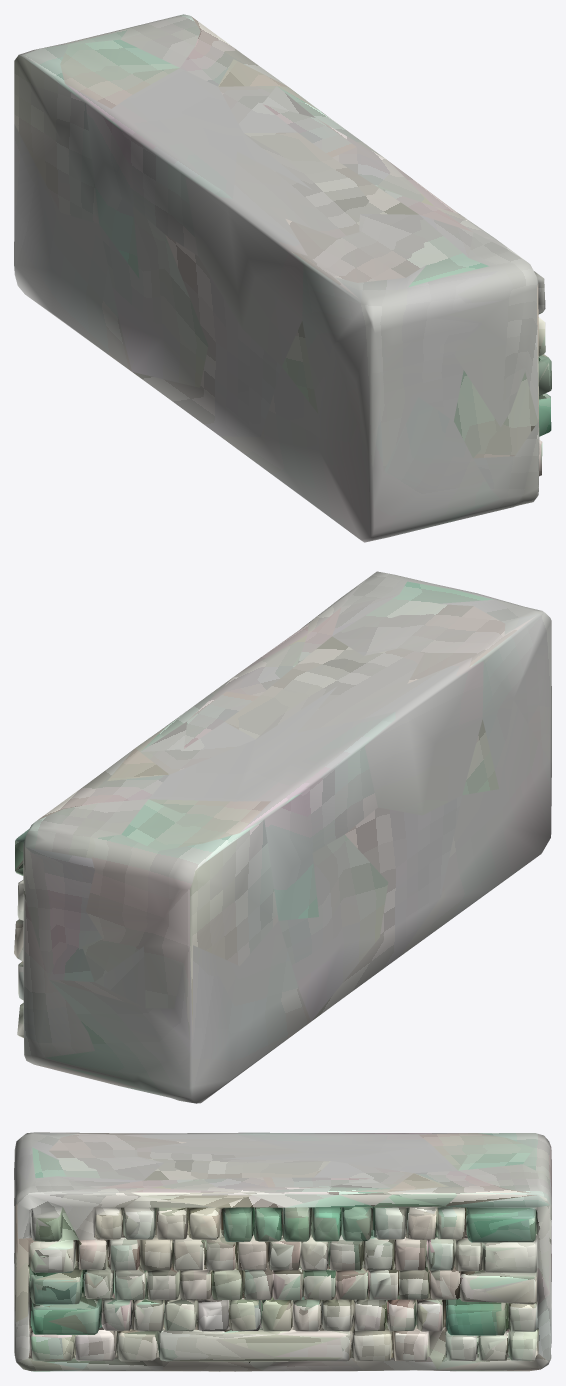
File: KR_사물_s1_office_keyboard.glb
The picture shows the model from 3 angles, top to bottom: view 1: azimuth 30°, elevation 25°; view 2: azimuth 150°, elevation 25°; view 3: azimuth 270°, elevation 25°; orthographic projection. The views are drawn at different scales.
Parts seen in each view (by area): view 1: tripo_node_6615d238-7340-414b-ac7d-c31ed0d7cbdc; view 2: tripo_node_6615d238-7340-414b-ac7d-c31ed0d7cbdc; view 3: tripo_node_6615d238-7340-414b-ac7d-c31ed0d7cbdc.
Part boxes in pixels (x1,y1,x2,y2): tripo_node_6615d238-7340-414b-ac7d-c31ed0d7cbdc: (14,14,551,542); tripo_node_6615d238-7340-414b-ac7d-c31ed0d7cbdc: (14,571,551,1103); tripo_node_6615d238-7340-414b-ac7d-c31ed0d7cbdc: (14,1132,551,1371).
Size of the model in its own units: 0.312 by 0.3741 by 1.
1 material, 1 textured.
